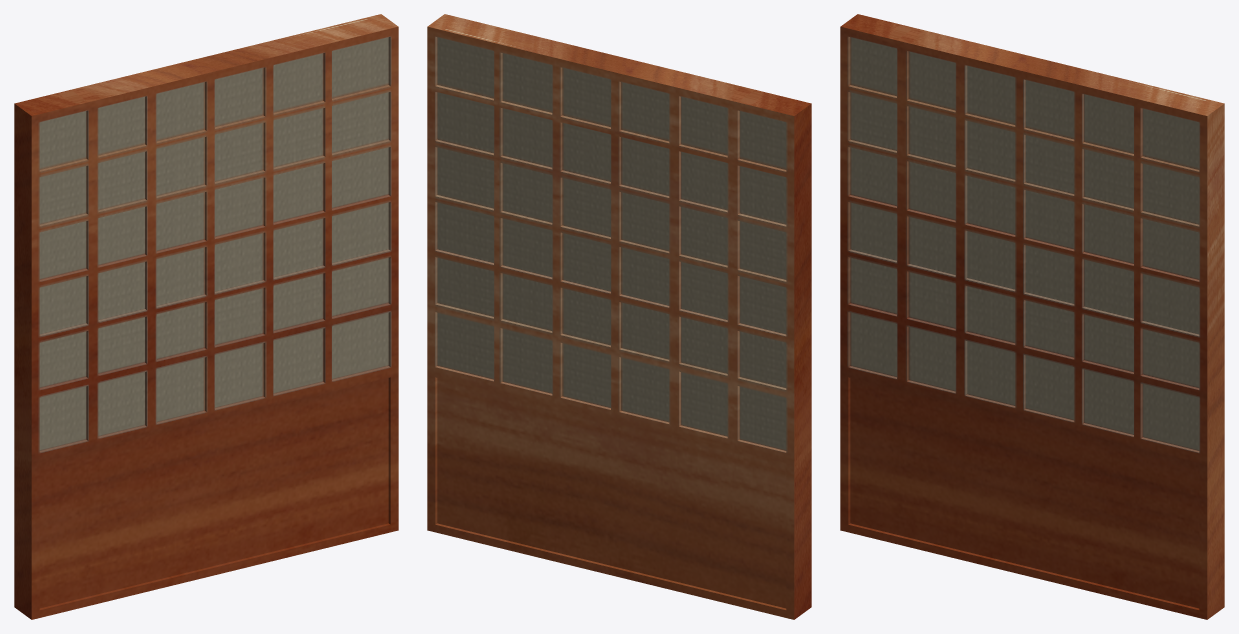
File: NNJ0510008.fbx
The picture shows the model from 3 angles, left to right: view 1: azimuth 30°, elevation 25°; view 2: azimuth 150°, elevation 25°; view 3: azimuth 330°, elevation 25°; orthographic projection.
Parts seen in each view (by area): view 1: smNNJ0510008; view 2: smNNJ0510008; view 3: smNNJ0510008.
Part boxes in pixels (box(x1,y1,x2,y2)): smNNJ0510008: box(14, 14, 398, 619); smNNJ0510008: box(427, 14, 811, 619); smNNJ0510008: box(840, 14, 1224, 619).
Size of the model in its own units: 222 by 291 by 18.09.
1 material, 1 textured.
